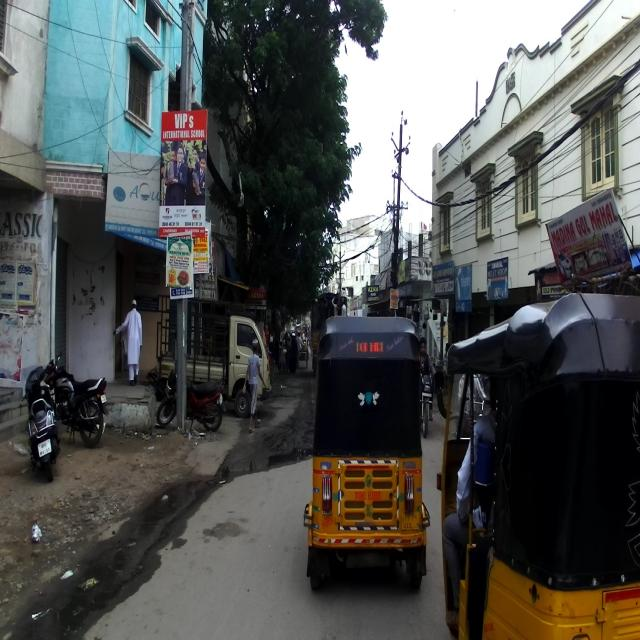autorickshaw: (430, 290, 640, 640), (301, 315, 432, 593)
motorcycle: (44, 352, 108, 448), (155, 360, 225, 433)
scooter: (20, 363, 60, 482)
truck: (156, 293, 272, 417)
